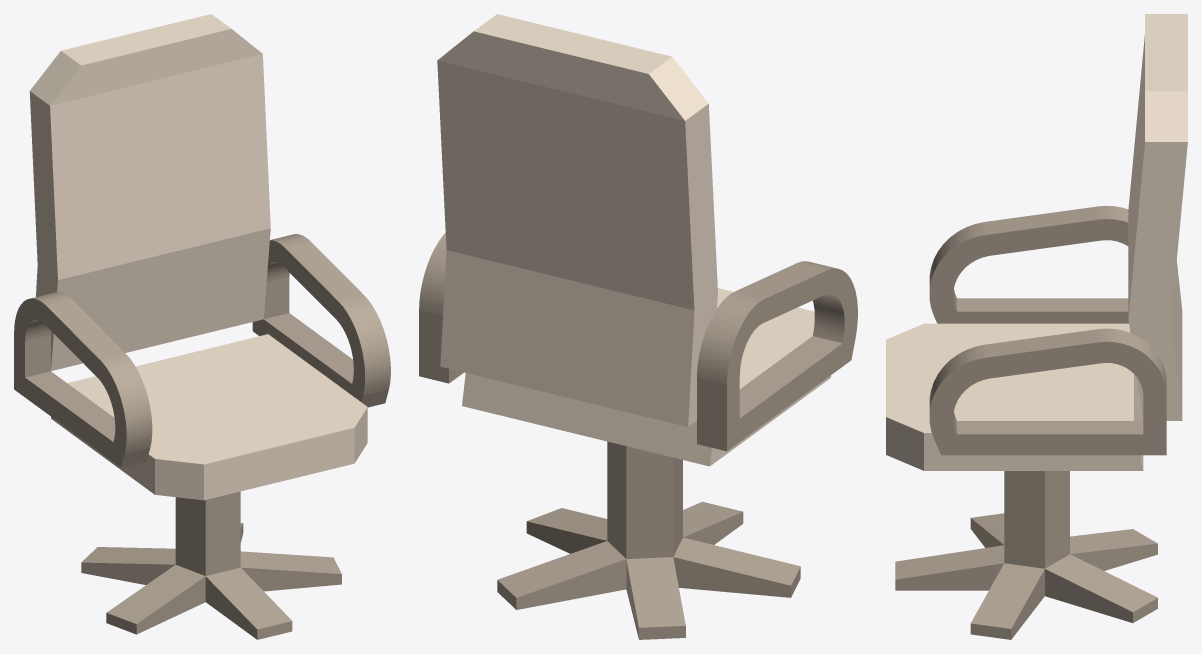
The model's file is kitChairDesk.glb.
3 renders of one model, left to right at view 1: azimuth 30°, elevation 25°; view 2: azimuth 150°, elevation 25°; view 3: azimuth 270°, elevation 25°, orthographic. The views are drawn at different scales.
Visible parts, largest first — view 1: kitChairDesk_fabric, kitChairDesk_metalMedium; view 2: kitChairDesk_fabric, kitChairDesk_metalMedium; view 3: kitChairDesk_metalMedium, kitChairDesk_fabric.
Boxes of the visible parts, x1,y1,x2,y2 form: kitChairDesk_fabric: [29, 14, 367, 500]; kitChairDesk_metalMedium: [14, 234, 390, 639]; kitChairDesk_fabric: [437, 14, 830, 466]; kitChairDesk_metalMedium: [419, 233, 857, 639]; kitChairDesk_metalMedium: [895, 205, 1166, 639]; kitChairDesk_fabric: [886, 14, 1187, 470].
Size of the model in its own units: 0.6699 by 1.22 by 0.6286.
